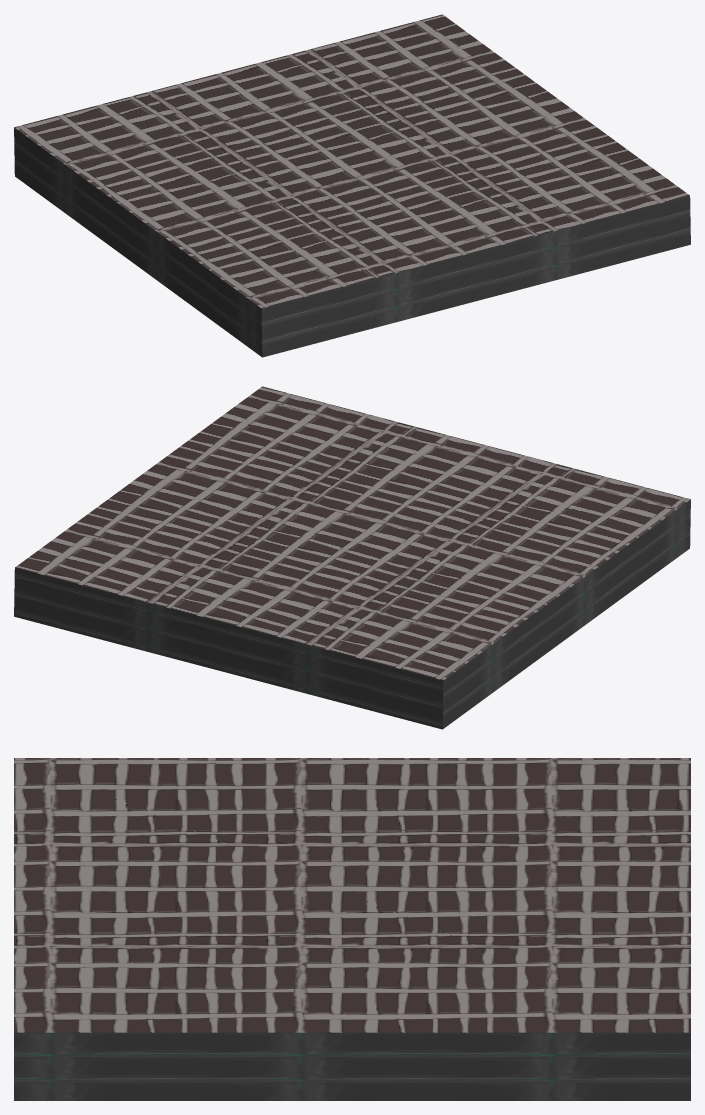
Rendered from cover2.fbx.
3 renders of one model, top to bottom at view 1: azimuth 30°, elevation 25°; view 2: azimuth 150°, elevation 25°; view 3: azimuth 270°, elevation 25°, orthographic. The views are drawn at different scales.
Visible parts, largest first — view 1: pCube1; view 2: pCube1; view 3: pCube1.
Part boxes in pixels (box(x1,y1,x2,y2)): pCube1: box(14, 14, 690, 357); pCube1: box(14, 386, 690, 729); pCube1: box(14, 758, 690, 1100).
Bounding box in the file's own units: 1.9 × 0.2431 × 1.89.
2 materials, 2 textured.
